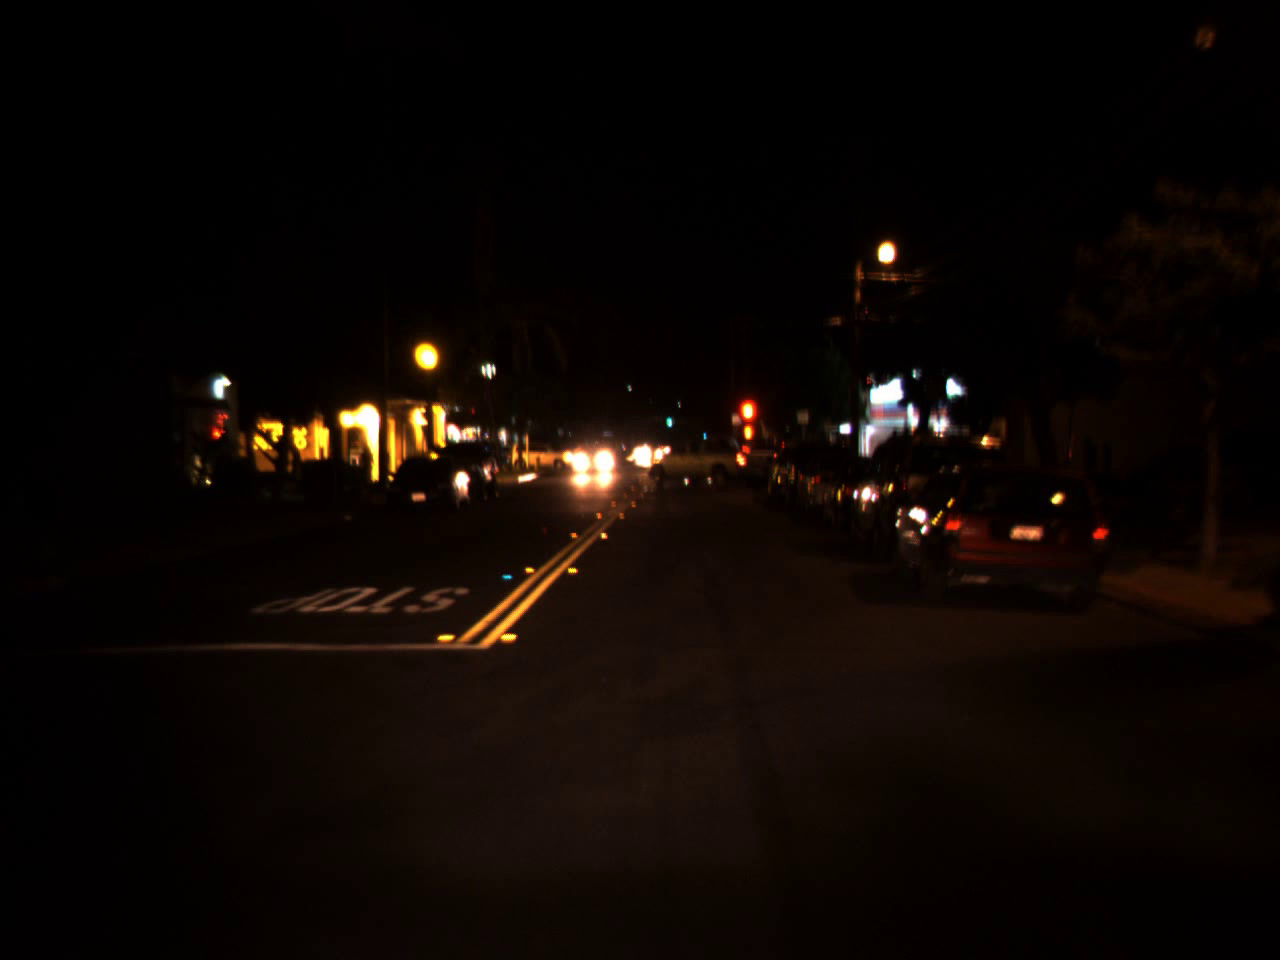go: (664, 409, 674, 427), (701, 428, 708, 440)
stop: (736, 395, 760, 449)
